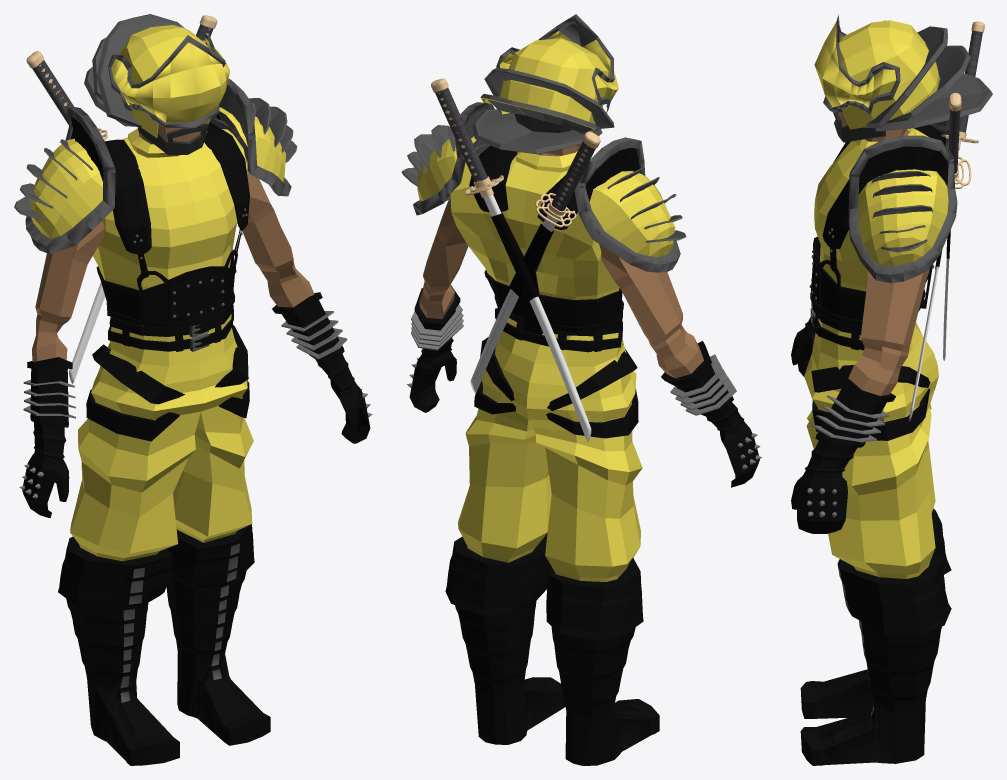
The model's file is SS Soldier_Yellow_First_Class_(srasmussen).fbx.
3 renders of one model, left to right at view 1: azimuth 30°, elevation 25°; view 2: azimuth 150°, elevation 25°; view 3: azimuth 270°, elevation 25°, orthographic.
Visible parts, largest first — view 1: SS_Pants.002, SS_Boots R, SS_Boots L, SS_Torso.002, SS_Harness, SS_Shoulder Plates.002, SS_Gloves, LPH_Arms.001, SS_Helmet Visor.005, SS_Helmet.009, SS_Pants.Leg_Straps.005, SS_Helmet.012 (+8 smaller); view 2: SS_Pants.002, SS_Boots R, SS_Boots L, SS_Shoulder Plates.002, SS_Torso.002, LPH_Arms.001, SS_Gloves, SS_Helmet.009, SS_Harness, SS_Helmet.010, SS_Helmet.012, SS_Pants.Leg_Straps.005 (+11 smaller); view 3: SS_Boots L, SS_Pants.002, SS_Shoulder Plates.002, SS_Gloves, SS_Helmet.009, LPH_Arms.001, SS_Harness, SS_Torso.002, SS_Boots R, SS_Helmet Visor.005, SS_Helmet.010, SS_Helmet.012 (+10 smaller).
Part boxes in pixels (x1=…): SS_Pants.002: x1=70, y1=314, x2=253, y2=561; SS_Boots R: x1=58, y1=536, x2=179, y2=765; SS_Boots L: x1=166, y1=524, x2=270, y2=745; SS_Torso.002: x1=93, y1=128, x2=247, y2=289; SS_Harness: x1=96, y1=122, x2=249, y2=351; SS_Shoulder Plates.002: x1=25, y1=79, x2=291, y2=254; SS_Gloves: x1=22, y1=292, x2=370, y2=518; LPH_Arms.001: x1=32, y1=156, x2=314, y2=361; SS_Helmet Visor.005: x1=111, y1=38, x2=229, y2=122; SS_Helmet.009: x1=92, y1=25, x2=210, y2=137; SS_Pants.Leg_Straps.005: x1=92, y1=325, x2=248, y2=404; SS_Helmet.012: x1=14, y1=98, x2=297, y2=220; SS_Pants.002: x1=458, y1=318, x2=642, y2=581; SS_Boots R: x1=546, y1=558, x2=659, y2=765; SS_Boots L: x1=445, y1=533, x2=565, y2=744; SS_Shoulder Plates.002: x1=413, y1=102, x2=680, y2=272; SS_Torso.002: x1=450, y1=151, x2=619, y2=299; LPH_Arms.001: x1=419, y1=195, x2=703, y2=378; SS_Gloves: x1=409, y1=285, x2=759, y2=487; SS_Helmet.009: x1=480, y1=38, x2=608, y2=133; SS_Harness: x1=469, y1=145, x2=623, y2=351; SS_Helmet.010: x1=472, y1=109, x2=602, y2=154; SS_Helmet.012: x1=401, y1=125, x2=686, y2=242; SS_Pants.Leg_Straps.005: x1=480, y1=337, x2=637, y2=411; SS_Boots L: x1=800, y1=553, x2=951, y2=765; SS_Pants.002: x1=804, y1=318, x2=938, y2=578; SS_Shoulder Plates.002: x1=848, y1=120, x2=957, y2=283; SS_Gloves: x1=791, y1=317, x2=895, y2=533; SS_Helmet.009: x1=839, y1=20, x2=970, y2=129; LPH_Arms.001: x1=848, y1=268, x2=929, y2=395; SS_Harness: x1=810, y1=125, x2=946, y2=349; SS_Torso.002: x1=814, y1=128, x2=947, y2=291; SS_Boots R: x1=800, y1=508, x2=951, y2=718; SS_Helmet Visor.005: x1=814, y1=21, x2=896, y2=107; SS_Helmet.010: x1=871, y1=73, x2=992, y2=131; SS_Helmet.012: x1=871, y1=171, x2=932, y2=252.
Size of the model in its own units: 242 by 476 by 121.
Materials: 10 (4 with a texture image).
